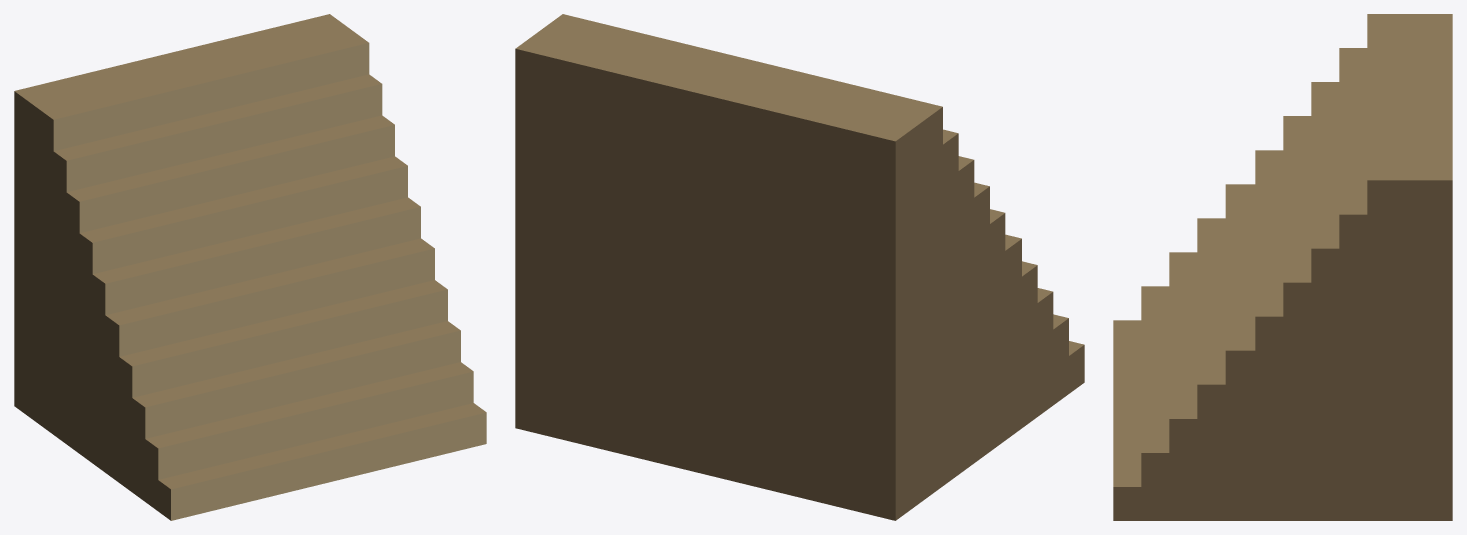
The model's file is garden_stair_2.fbx.
The picture shows the model from 3 angles, left to right: view 1: azimuth 30°, elevation 25°; view 2: azimuth 150°, elevation 25°; view 3: azimuth 270°, elevation 25°; orthographic projection. The views are drawn at different scales.
Visible parts, largest first — view 1: garden_stair_02; view 2: garden_stair_02; view 3: garden_stair_02.
Part boxes in pixels (box(x1,y1,x2,y2)): garden_stair_02: box(14, 14, 486, 520); garden_stair_02: box(515, 14, 1084, 520); garden_stair_02: box(1113, 14, 1452, 520).
Size of the model in its own units: 0.7867 by 0.7505 by 0.6776.
1 material, 1 textured.
